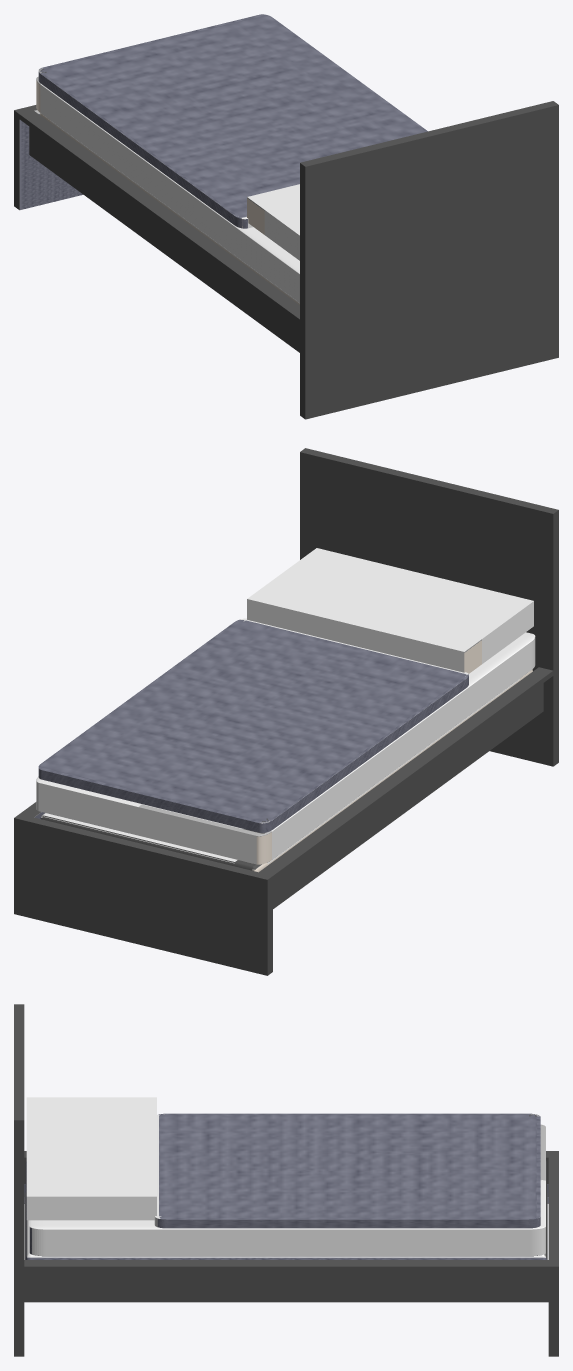
Rendered from cama.obj.
The picture shows the model from 3 angles, top to bottom: view 1: azimuth 30°, elevation 25°; view 2: azimuth 150°, elevation 25°; view 3: azimuth 270°, elevation 25°; orthographic projection. The views are drawn at different scales.
Parts seen in each view (by area): view 1: Cube.003; view 2: Cube.003; view 3: Cube.003.
Boxes of the visible parts, left/top/right/bottom form: Cube.003: left=14, top=14, right=558, bottom=419; Cube.003: left=14, top=448, right=558, bottom=975; Cube.003: left=14, top=1004, right=558, bottom=1356.
Size of the model in its own units: 1.05 by 1 by 2.09.
